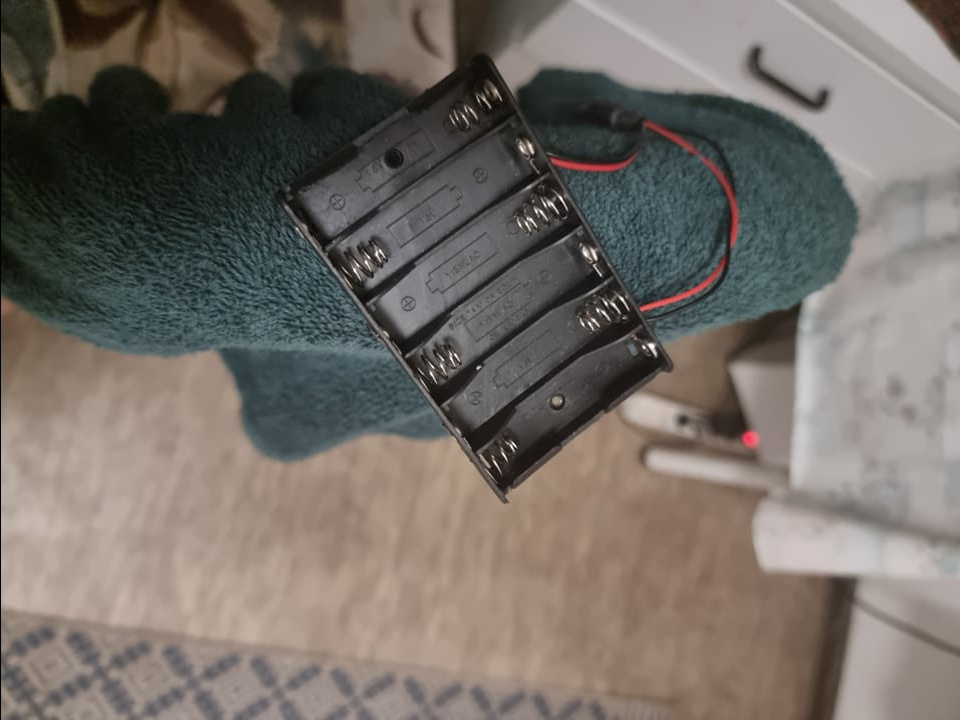BATTERY BOX: (266, 55, 670, 506)
